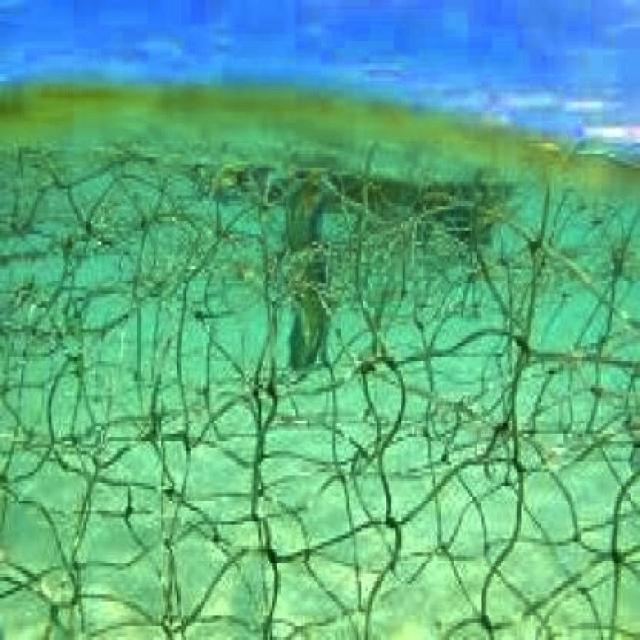net: (1, 164, 635, 640)
